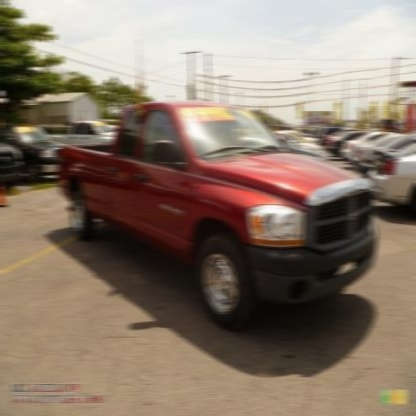Vehicle: (57, 99, 377, 327)
